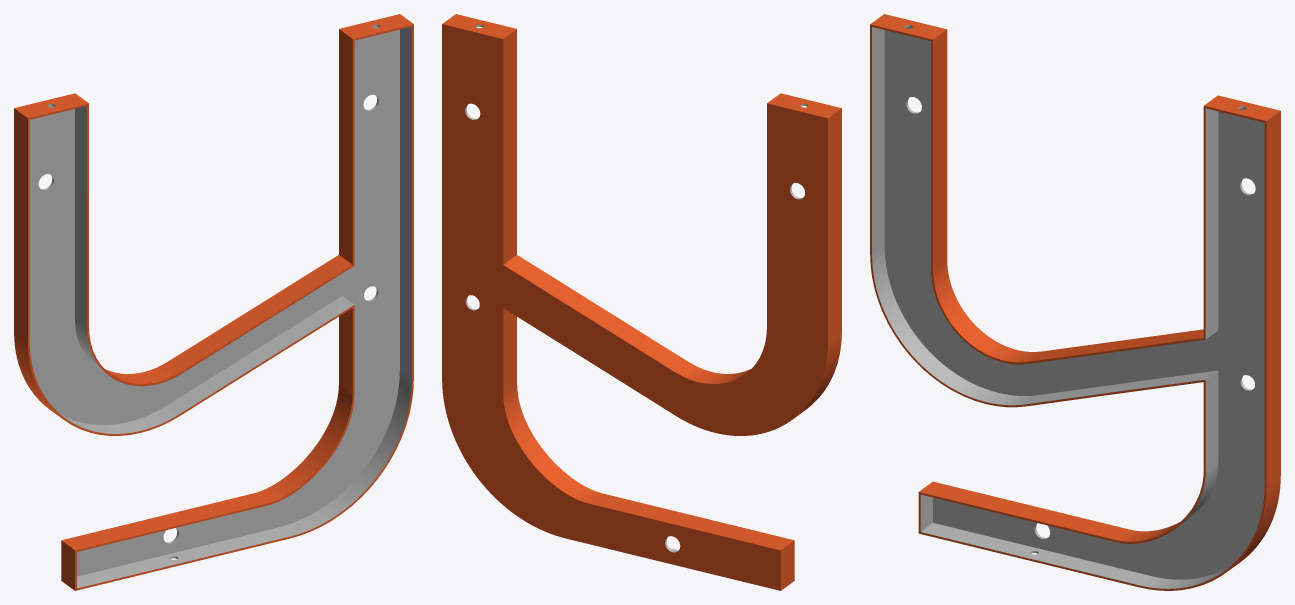
Rendered from BACK02-v21.glb.
3 views of the same model, side by side, from view 1: azimuth 30°, elevation 25°; view 2: azimuth 150°, elevation 25°; view 3: azimuth 330°, elevation 25° (orthographic). The views are drawn at different scales.
Parts seen in each view (by area): view 1: back02; view 2: back02; view 3: back02.
Part boxes in pixels (x1=…): back02: x1=14, y1=14, x2=413, y2=590; back02: x1=442, y1=14, x2=841, y2=590; back02: x1=870, y1=14, x2=1280, y2=590.
Bounding box in the file's own units: 40.26 × 48.25 × 2.5.
